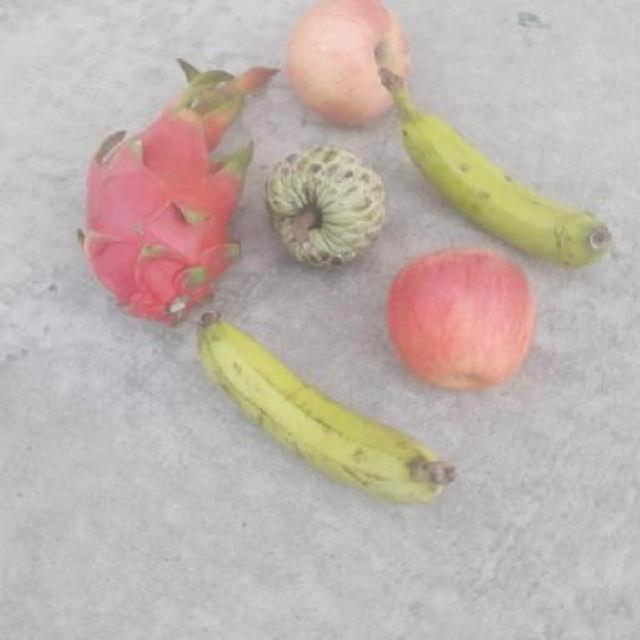apple: (386, 244, 539, 391), (283, 0, 412, 128)
banana: (120, 309, 458, 503), (376, 67, 615, 267)
dragon fruit: (75, 99, 250, 332)
sugar apple: (261, 140, 388, 274)
